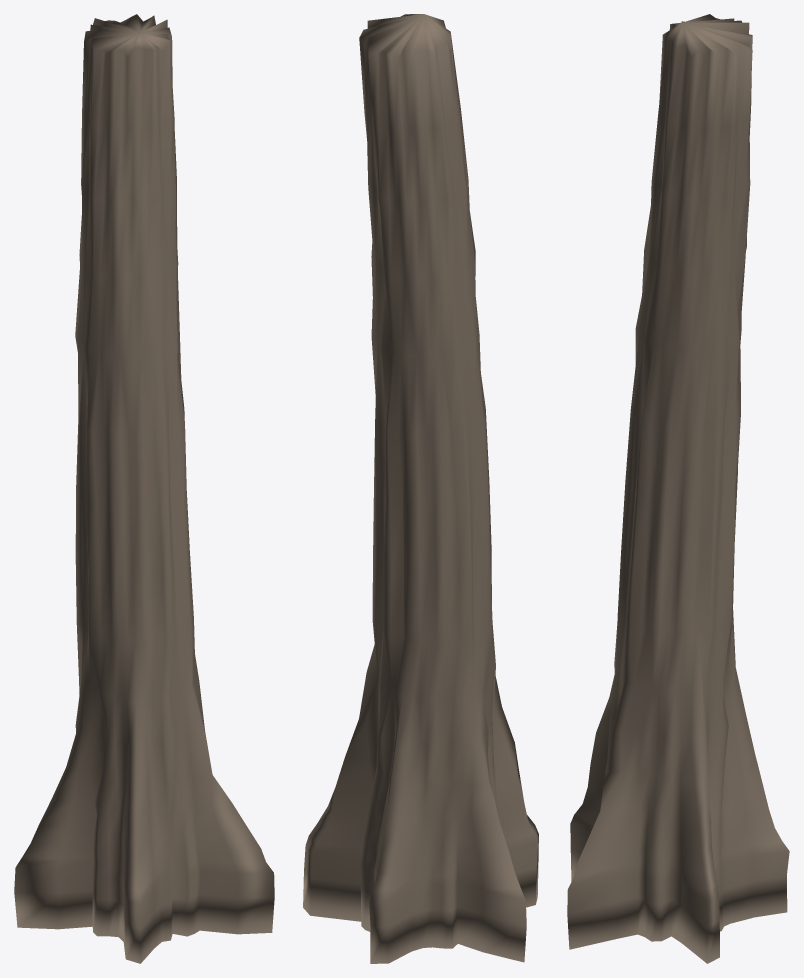
File: trunk-sakura.glb
3 renders of one model, left to right at view 1: azimuth 30°, elevation 25°; view 2: azimuth 150°, elevation 25°; view 3: azimuth 270°, elevation 25°, orthographic. The views are drawn at different scales.
Parts seen in each view (by area): view 1: trunk-sakura; view 2: trunk-sakura; view 3: trunk-sakura.
Part boxes in pixels (left/top/right/bottom): trunk-sakura: left=14, top=14, right=274, bottom=963; trunk-sakura: left=303, top=14, right=538, bottom=963; trunk-sakura: left=567, top=14, right=789, bottom=963.
Size of the model in its own units: 0.6832 by 2.64 by 0.5979.
